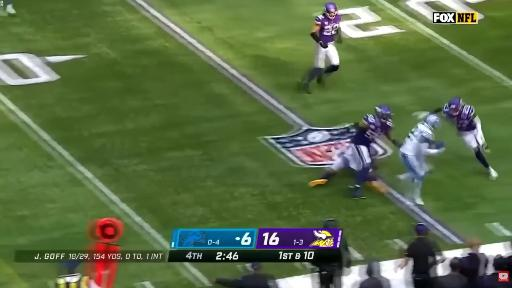Helmet: (375, 105, 392, 121), (448, 97, 463, 115), (424, 114, 440, 128), (324, 3, 337, 18)
Jersey: (352, 115, 392, 147), (400, 122, 434, 155), (443, 104, 476, 131), (315, 14, 341, 43)
Player: (434, 97, 498, 179), (350, 105, 400, 198), (400, 114, 444, 205), (302, 3, 341, 93), (309, 146, 358, 187)
